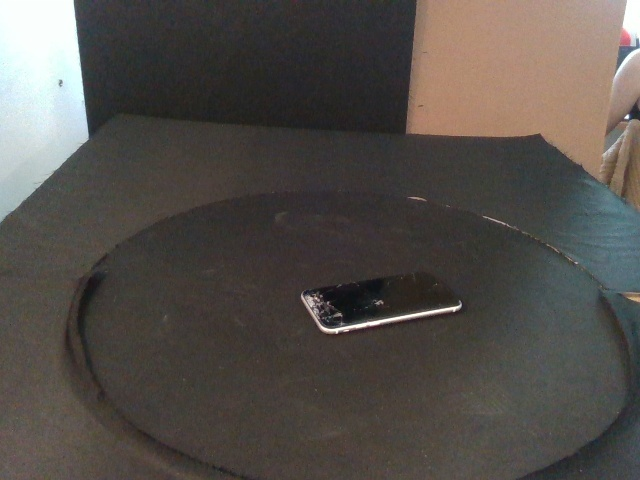phone: (299, 270, 462, 335)
